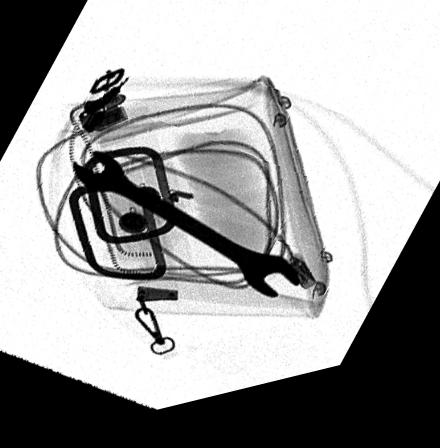Wrench: (72, 156, 300, 313)
